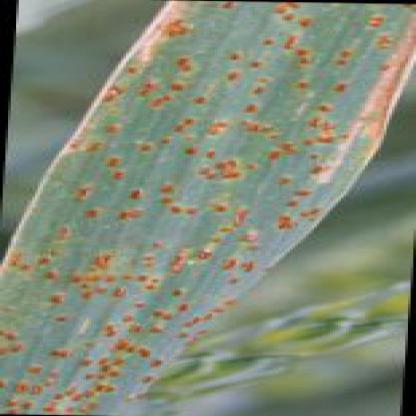Wheat Brown-rust: (166, 5, 382, 107), (30, 165, 100, 415), (167, 115, 354, 174), (112, 60, 155, 260), (167, 181, 328, 224), (107, 299, 214, 339), (112, 266, 242, 295), (176, 230, 284, 260), (109, 346, 168, 381)
